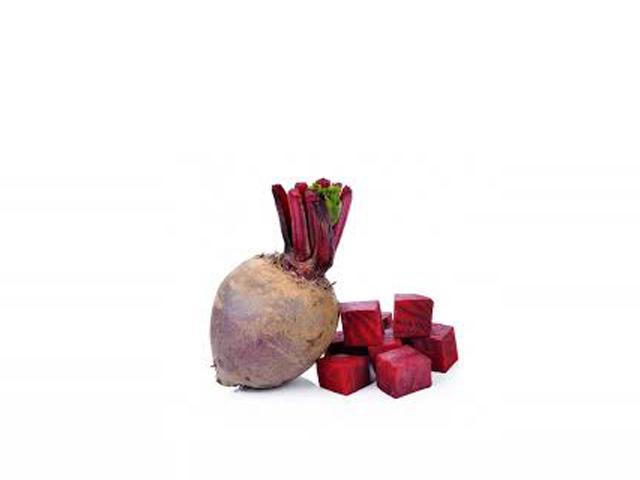beet: (210, 180, 352, 390)
